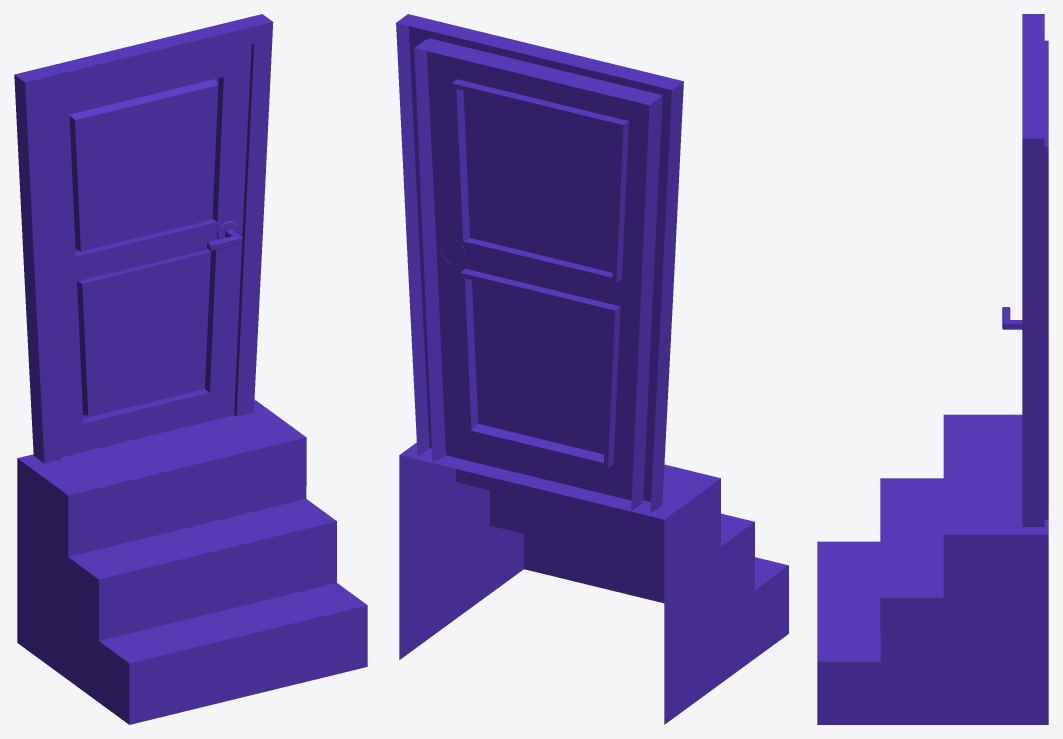
Rendered from DoorHouse.fbx.
3 views of the same model, side by side, from view 1: azimuth 30°, elevation 25°; view 2: azimuth 150°, elevation 25°; view 3: azimuth 270°, elevation 25° (orthographic). The views are drawn at different scales.
Parts seen in each view (by area): view 1: SM_Stairs, SM_Door, SM_Door.001; view 2: SM_Door, SM_Stairs, SM_Door.001; view 3: SM_Stairs, SM_Door.001, SM_Door.
Boxes of the visible parts, x1=… form: SM_Stairs: x1=17, y1=400, x2=367, y2=724; SM_Door: x1=44, y1=44, x2=251, y2=456; SM_Door.001: x1=14, y1=14, x2=273, y2=463; SM_Door: x1=414, y1=39, x2=660, y2=511; SM_Stairs: x1=399, y1=442, x2=788, y2=724; SM_Door.001: x1=396, y1=14, x2=683, y2=513; SM_Stairs: x1=817, y1=414, x2=1048, y2=724; SM_Door.001: x1=1022, y1=14, x2=1044, y2=526; SM_Door: x1=1044, y1=40, x2=1048, y2=519.
Bounding box in the file's own units: 141 × 309 × 110.
